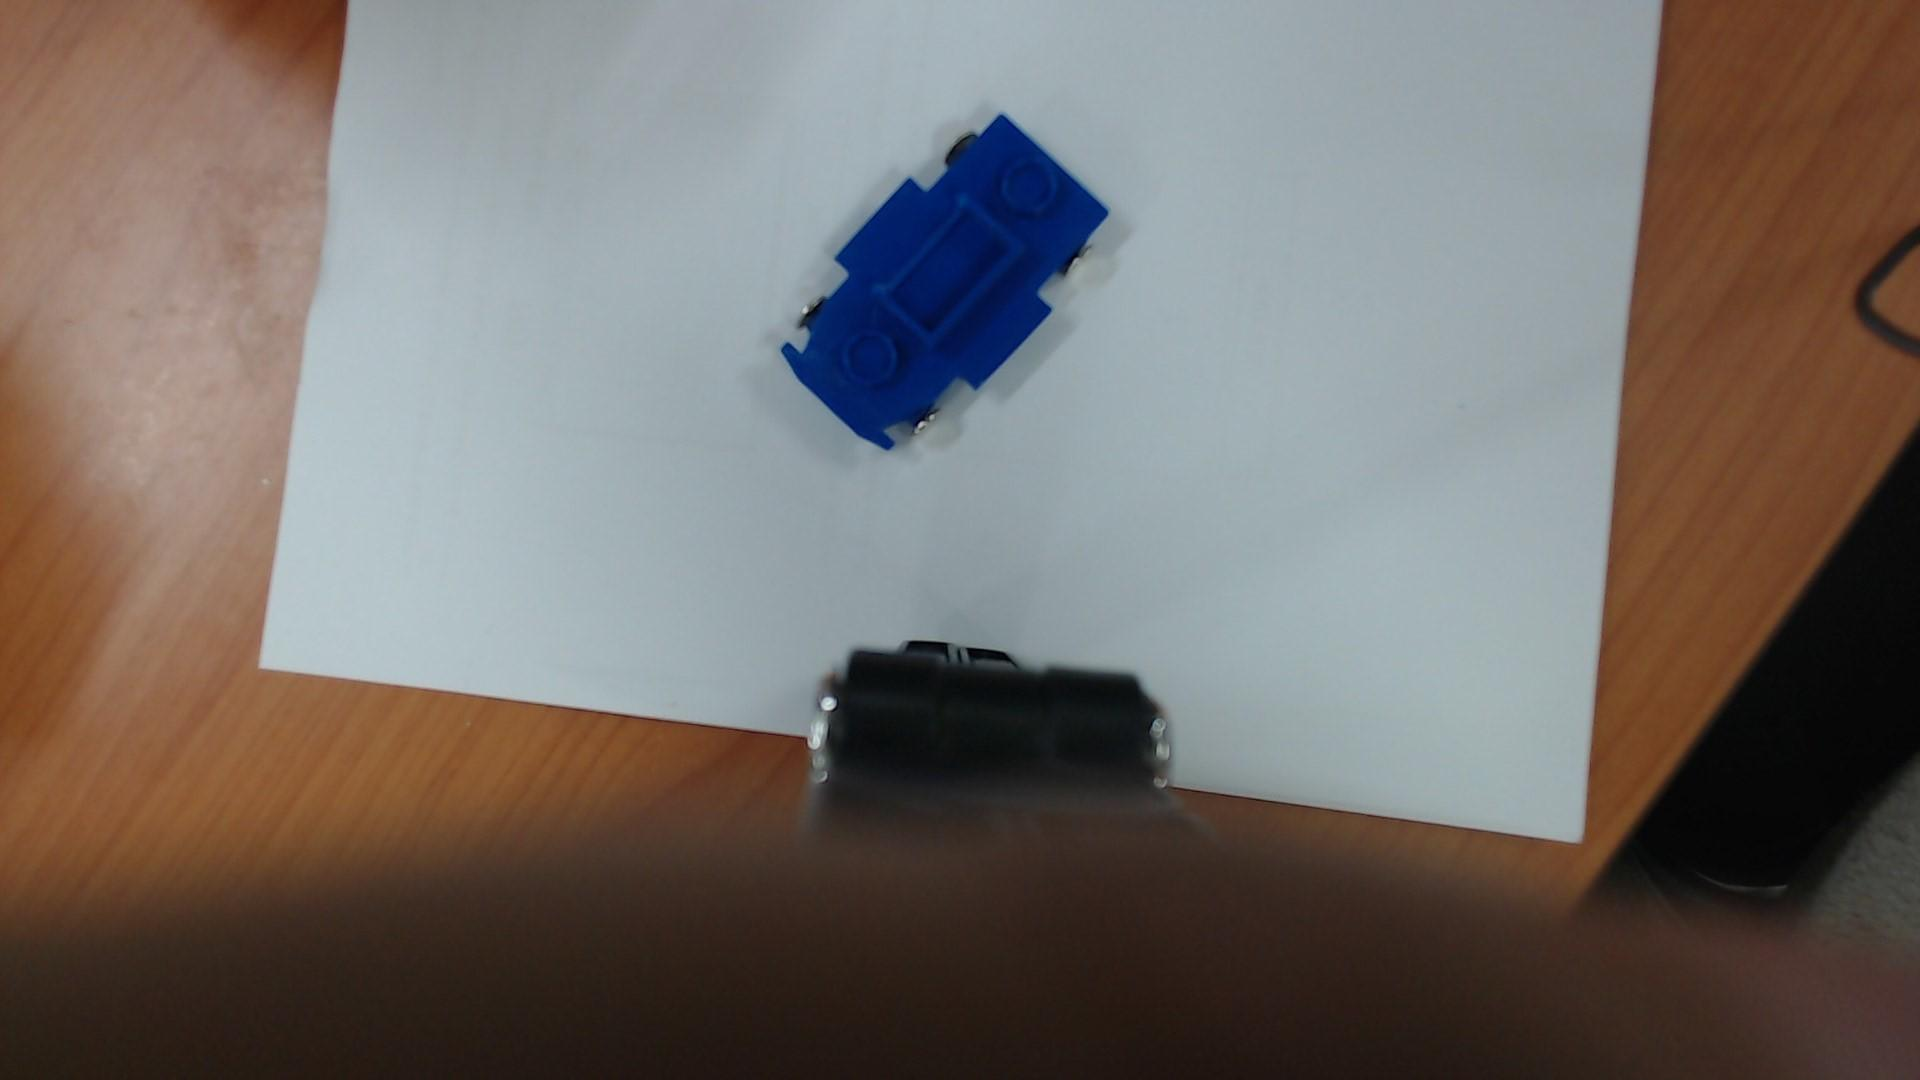lower_ng: (870, 184, 1043, 358)
